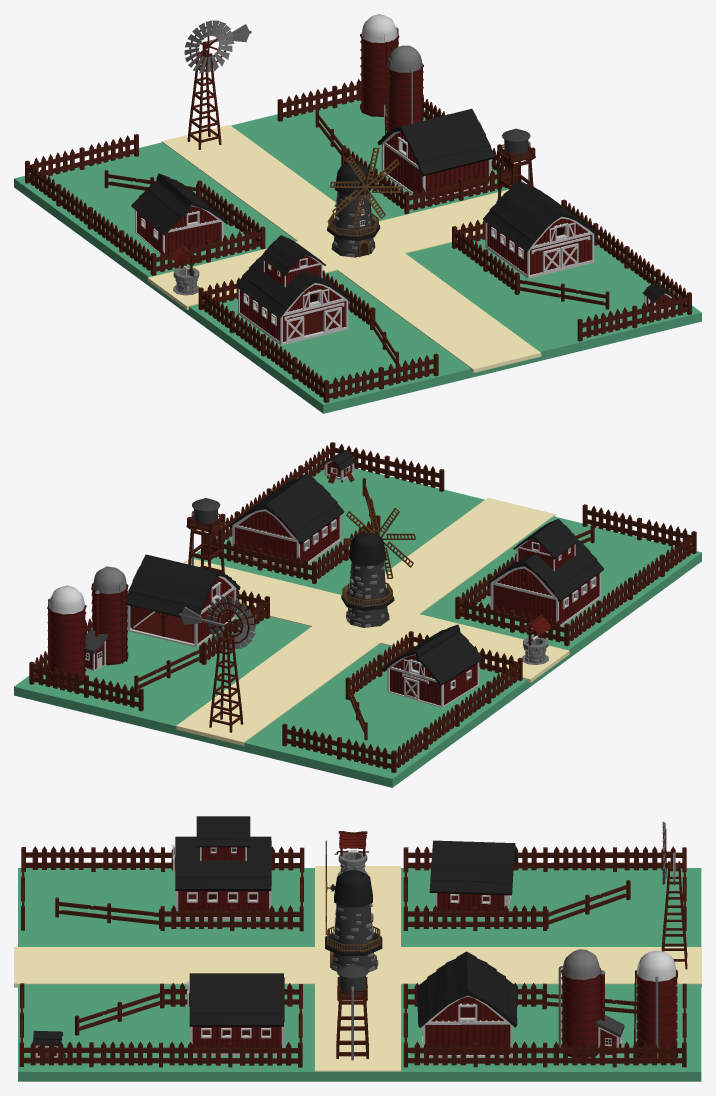
The model's file is Farm.obj.
3 renders of one model, top to bottom at view 1: azimuth 30°, elevation 25°; view 2: azimuth 150°, elevation 25°; view 3: azimuth 270°, elevation 25°, orthographic. The views are drawn at different scales.
Parts seen in each view (by area): view 1: Box_003, Floor_001_00, BigBarn, OpenBarn, Barn, Floor_001, Small_Barn, TowerWindmill, Silo_House, Silo, Fence2, Fence2_00 (+20 smaller); view 2: Box_003, Floor_001_00, BigBarn, OpenBarn, Barn, Floor_001, Small_Barn, Silo_House, TowerWindmill, Silo, Windmill, Fence2_14 (+22 smaller); view 3: Box_003, Floor_001_00, Floor_001, BigBarn, OpenBarn, Barn, Small_Barn, Silo_House, TowerWindmill, Silo, Fence2_15, Fence2_07 (+18 smaller).
Part boxes in pixels (bbox=[...]): Box_003: bbox=[14, 99, 701, 413]; Floor_001_00: bbox=[162, 125, 541, 372]; BigBarn: bbox=[235, 235, 351, 345]; OpenBarn: bbox=[377, 108, 494, 200]; Barn: bbox=[483, 181, 596, 278]; Floor_001: bbox=[147, 189, 509, 309]; Small_Barn: bbox=[131, 173, 228, 254]; TowerWindmill: bbox=[327, 162, 380, 257]; Silo_House: bbox=[382, 45, 423, 134]; Silo: bbox=[360, 14, 399, 116]; Fence2: bbox=[577, 293, 691, 341]; Fence2_00: bbox=[325, 353, 438, 402]; Box_003: bbox=[14, 460, 701, 787]; Floor_001_00: bbox=[176, 497, 555, 745]; BigBarn: bbox=[488, 519, 603, 626]; OpenBarn: bbox=[127, 554, 240, 647]; Barn: bbox=[230, 473, 344, 570]; Floor_001: bbox=[183, 558, 569, 682]; Small_Barn: bbox=[382, 624, 483, 707]; Silo_House: bbox=[85, 566, 128, 670]; TowerWindmill: bbox=[341, 532, 394, 627]; Silo: bbox=[47, 585, 86, 686]; Windmill: bbox=[179, 607, 243, 732]; Fence2_14: bbox=[29, 662, 143, 711]; Box_003: bbox=[18, 868, 701, 1081]; Floor_001_00: bbox=[14, 947, 701, 987]; Floor_001: bbox=[315, 866, 400, 1071]; BigBarn: bbox=[175, 816, 271, 919]; OpenBarn: bbox=[417, 951, 517, 1057]; Barn: bbox=[189, 973, 284, 1055]; Small_Barn: bbox=[429, 840, 517, 918]; Silo_House: bbox=[558, 949, 624, 1057]; TowerWindmill: bbox=[325, 870, 382, 972]; Silo: bbox=[634, 950, 677, 1064]; Fence2_15: bbox=[543, 1041, 685, 1067]; Fence2_07: bbox=[159, 1041, 301, 1067].
Size of the model in its own units: 602 by 210 by 854.
Materials: 108 (2 with a texture image).
